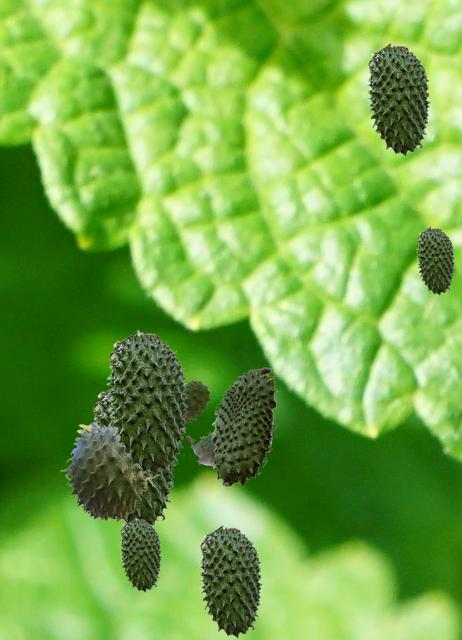guyabano: (106, 329, 188, 474), (92, 387, 175, 526), (60, 421, 159, 520), (211, 367, 276, 486), (366, 42, 430, 155), (198, 524, 262, 637), (186, 417, 276, 470), (119, 517, 161, 591), (416, 226, 454, 294), (184, 380, 210, 423)
